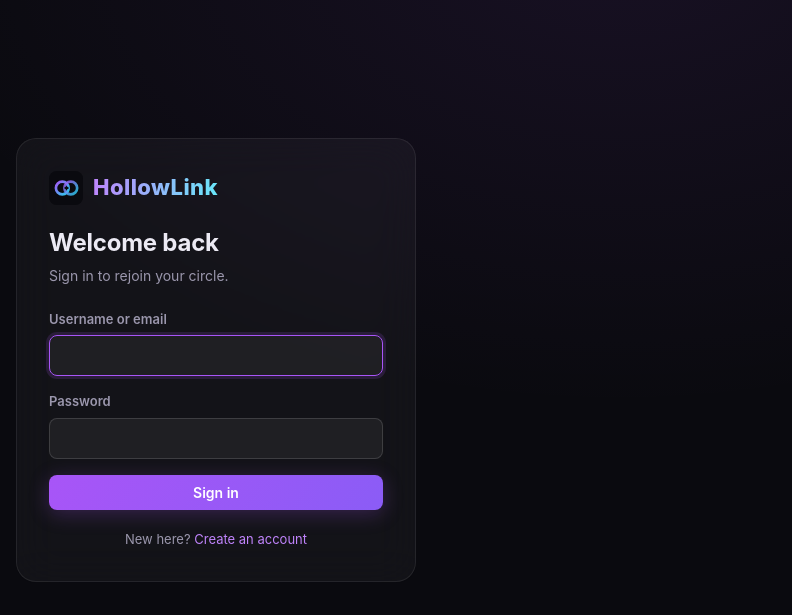
Test: LoginPage form › submits credentials and shows server errors
In the field labelled "Username or email": coordinates (216, 356) x1=49 y1=335 x2=383 y2=376, type "neo"
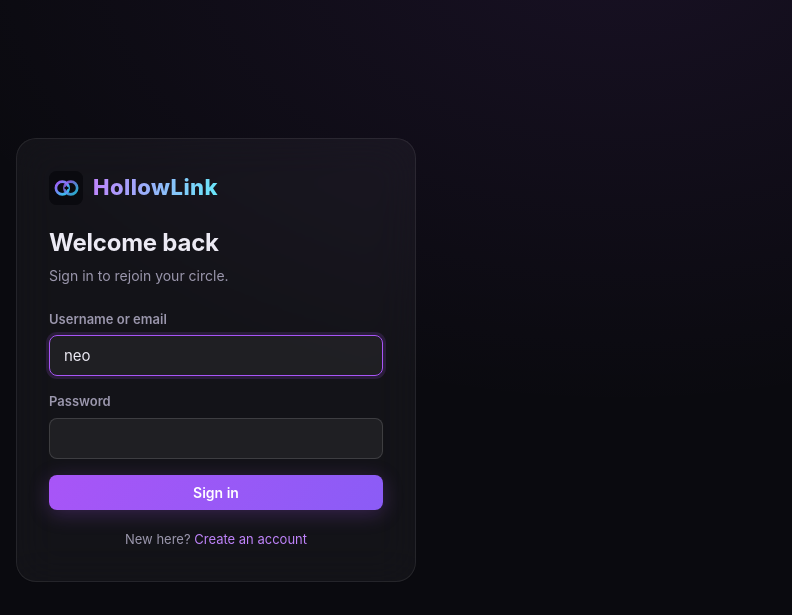
In the password field labelled "Password": coordinates (216, 438) x1=49 y1=418 x2=383 y2=459, type "wrong-password"
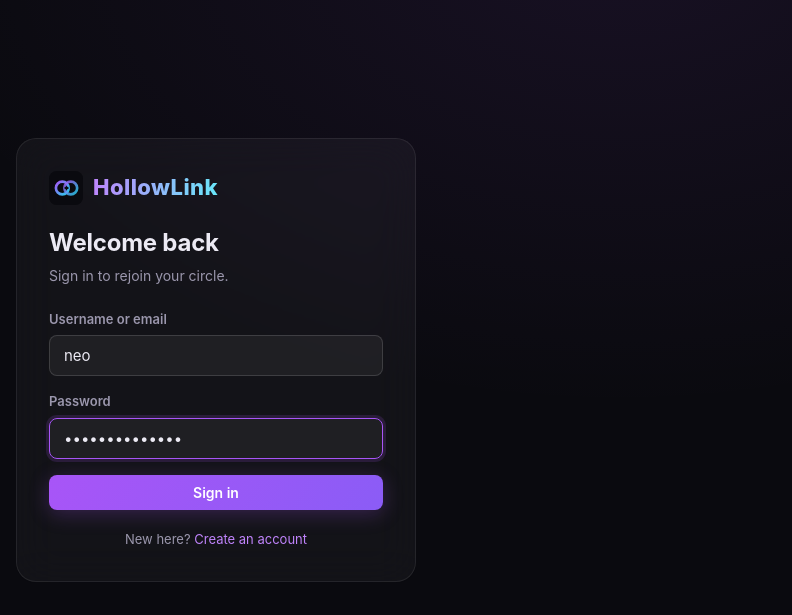
Click the button "Sign in": coordinates (216, 492) x1=49 y1=475 x2=383 y2=510
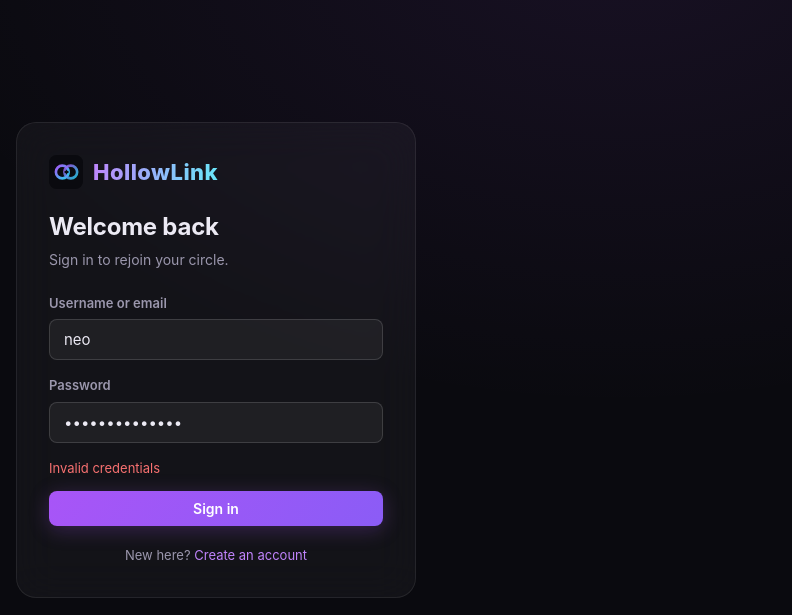
Expected: the message reads "Invalid credentials", x1=49 y1=460 x2=160 y2=476
